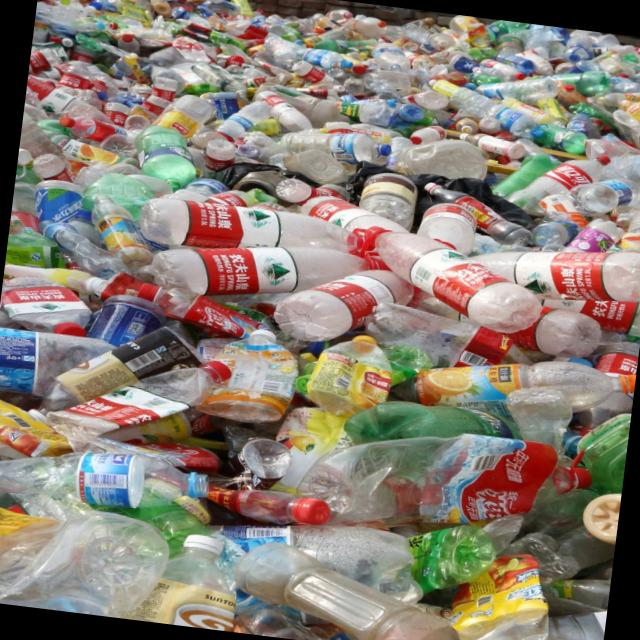plastic_bottle: (343, 219, 574, 349), (0, 442, 245, 516), (143, 249, 400, 311), (133, 187, 367, 250)
